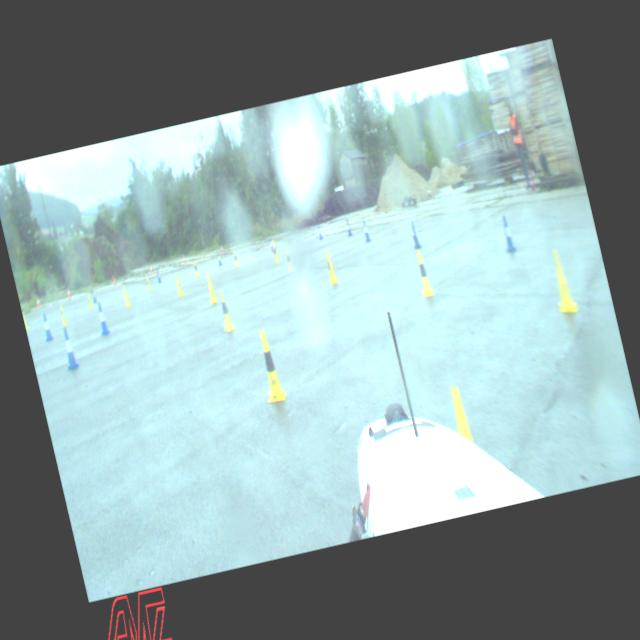blue_cone: (59, 326, 80, 369), (498, 214, 517, 253), (94, 302, 110, 336), (40, 312, 54, 340), (408, 220, 421, 249), (360, 220, 371, 242), (344, 220, 352, 236), (216, 252, 222, 264)
yellow_cone: (252, 328, 287, 402), (546, 247, 578, 315), (412, 248, 434, 297), (214, 288, 237, 332), (322, 250, 338, 284), (204, 274, 218, 304), (172, 272, 184, 296), (283, 246, 294, 272), (120, 284, 132, 306), (270, 240, 280, 263), (192, 260, 199, 276), (232, 250, 238, 266)
